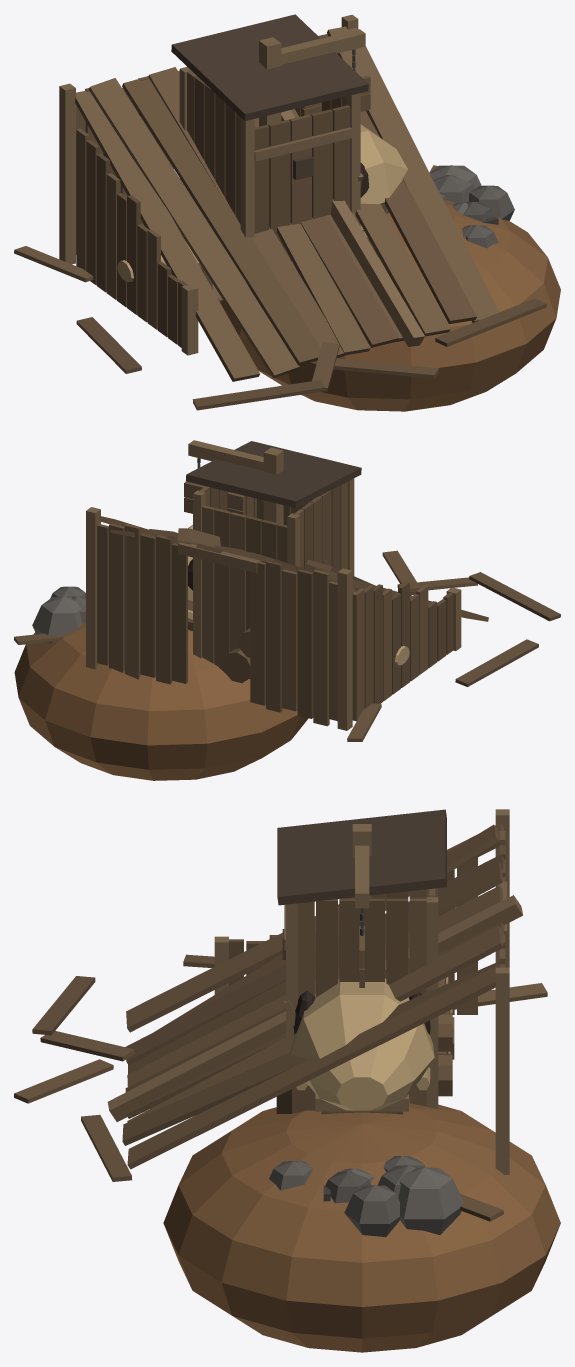
File: clutters.glb
3 renders of one model, top to bottom at view 1: azimuth 30°, elevation 25°; view 2: azimuth 150°, elevation 25°; view 3: azimuth 270°, elevation 25°, orthographic. The views are drawn at different scales.
Parts seen in each view (by area): view 1: CollapsedShed, Outhouse, DinoSkull, MineCart, SignPost; view 2: CollapsedShed, DinoSkull, Outhouse, SignPost, MineCart, LogPile; view 3: DinoSkull, CollapsedShed, Outhouse, MineCart, LogPile, SignPost, WaterTrough.
Part boxes in pixels (x1=…): CollapsedShed: x1=14, y1=14, x2=546, y2=410; Outhouse: x1=171, y1=14, x2=368, y2=271; DinoSkull: x1=117, y1=124, x2=560, y2=411; MineCart: x1=429, y1=165, x2=514, y2=248; SignPost: x1=259, y1=29, x2=370, y2=126; CollapsedShed: x1=14, y1=507, x2=560, y2=741; DinoSkull: x1=14, y1=525, x2=409, y2=780; Outhouse: x1=186, y1=441, x2=361, y2=678; SignPost: x1=184, y1=440, x2=283, y2=524; MineCart: x1=32, y1=586, x2=85, y2=643; LogPile: x1=223, y1=628, x2=250, y2=682; DinoSkull: x1=163, y1=978, x2=560, y2=1352; CollapsedShed: x1=14, y1=809, x2=547, y2=1221; Outhouse: x1=277, y1=809, x2=446, y2=1108; MineCart: x1=269, y1=1156, x2=463, y2=1237; LogPile: x1=276, y1=977, x2=454, y2=1113; SignPost: x1=352, y1=824, x2=371, y2=987; WaterTrough: x1=315, y1=1094, x2=408, y2=1114.
Size of the model in its own units: 5.55 by 4.04 by 4.68.
